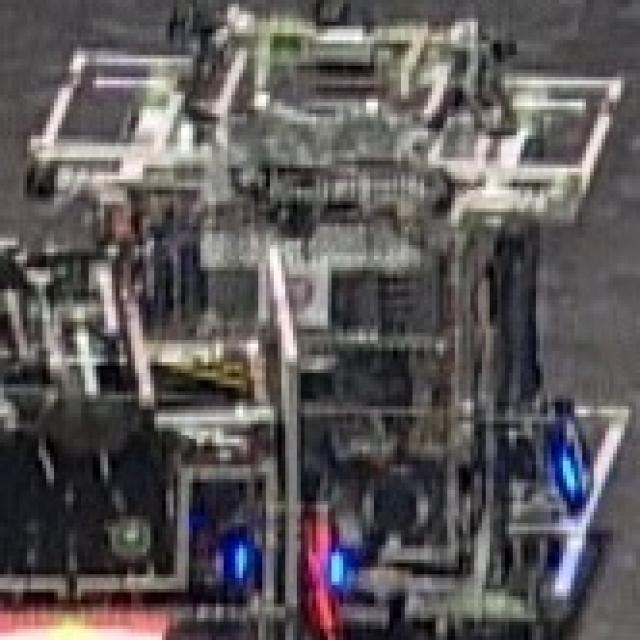B2: (538, 399, 599, 501)
